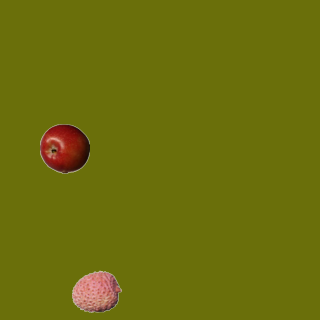Apple Braeburn: (39, 123, 89, 173)
Lychee: (71, 266, 121, 316)
